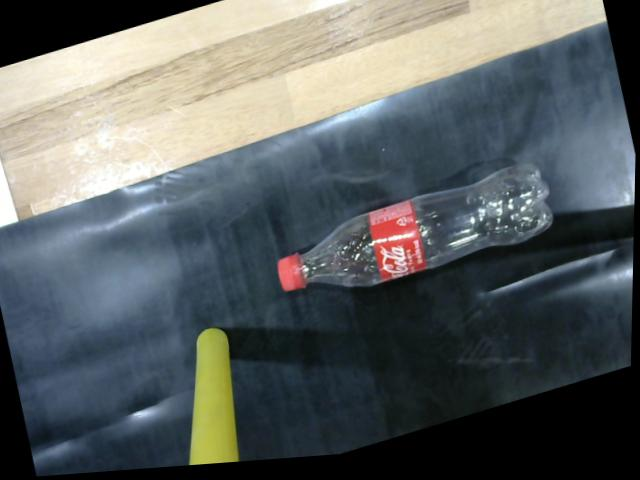bottle: (272, 158, 571, 312)
